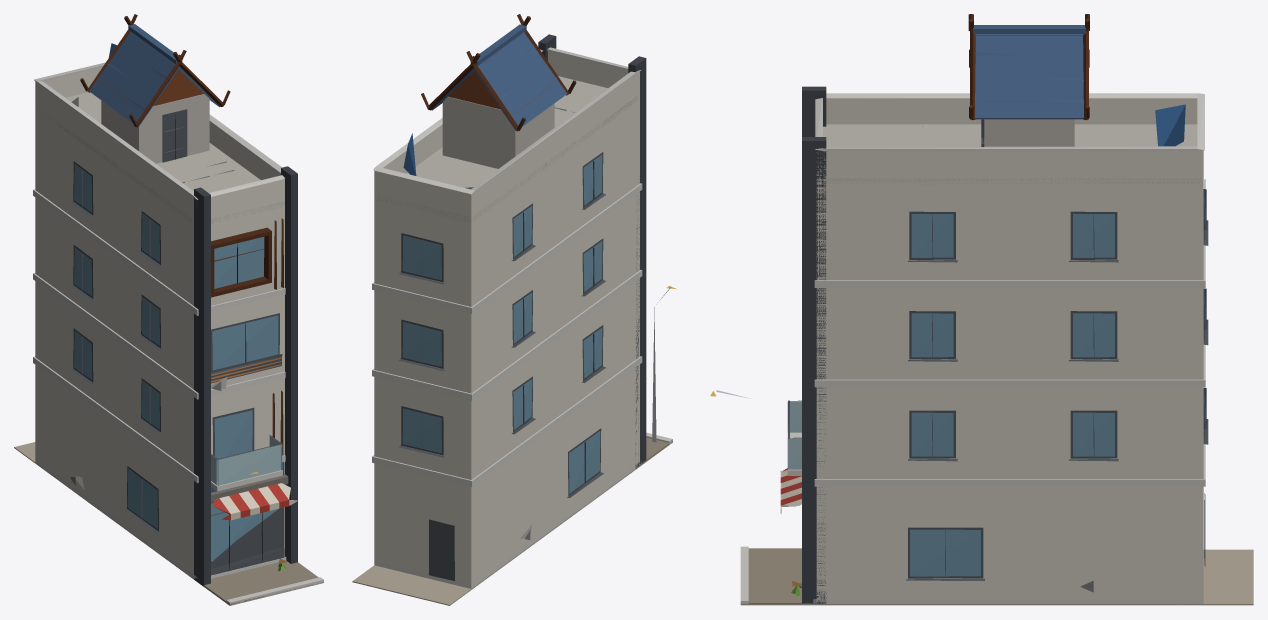
Rendered from bay2_one.glb.
3 views of the same model, side by side, from view 1: azimuth 30°, elevation 25°; view 2: azimuth 150°, elevation 25°; view 3: azimuth 270°, elevation 25° (orthographic). The views are drawn at different scales.
Visible parts, largest first — view 1: body; view 2: body; view 3: body.
Boxes of the visible parts, <box> form: body: <box>14,14,323,605</box>; body: <box>352,14,672,605</box>; body: <box>716,14,1253,605</box>.
Size of the model in its own units: 4.71 by 19.5 by 16.87.
